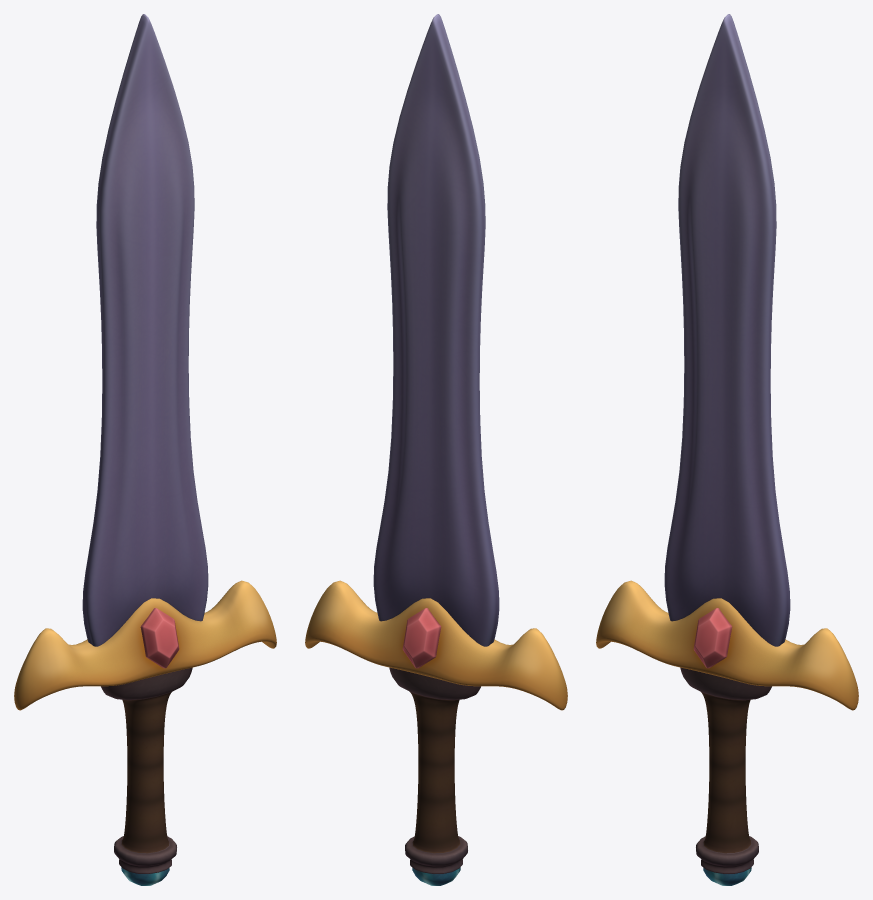
Rendered from Sword01.fbx.
3 renders of one model, left to right at view 1: azimuth 30°, elevation 25°; view 2: azimuth 150°, elevation 25°; view 3: azimuth 330°, elevation 25°, orthographic.
Visible parts, largest first — view 1: Sword01; view 2: Sword01; view 3: Sword01.
Part boxes in pixels (<box>): Sword01: <box>14,14,276,885</box>; Sword01: <box>305,14,567,885</box>; Sword01: <box>596,14,858,885</box>.
Bounding box in the file's own units: 25.93 × 83.99 × 8.45.
